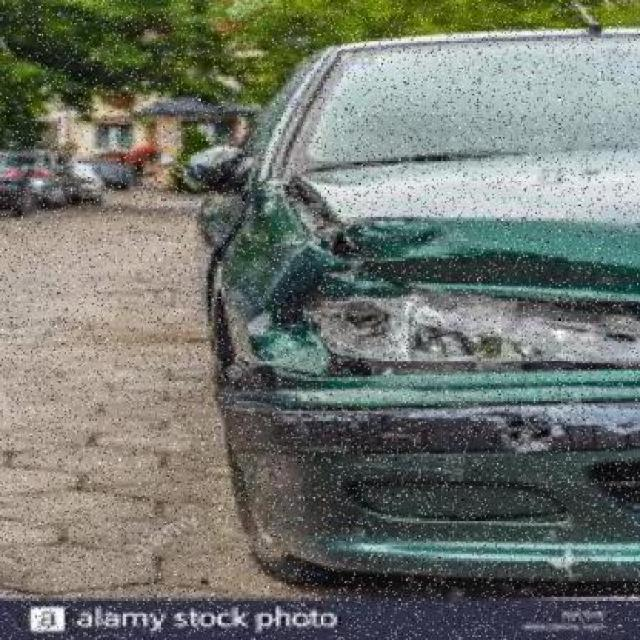Headlight-Damage: (232, 282, 636, 380)
bonnet-dent: (266, 173, 637, 283)
front-bumper-dent: (222, 365, 638, 583)
